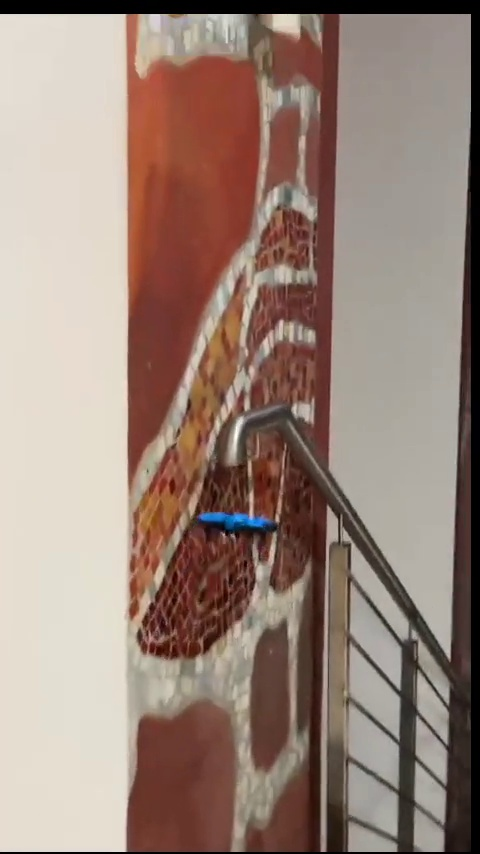drone: (198, 511, 277, 538)
